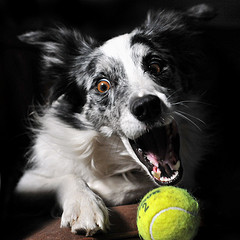tennis ball: (134, 182, 205, 240)
